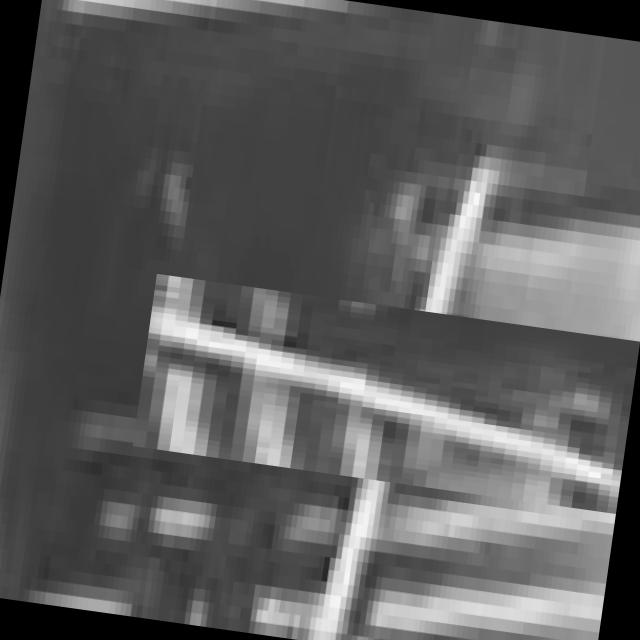stick: (203, 202, 591, 589)
